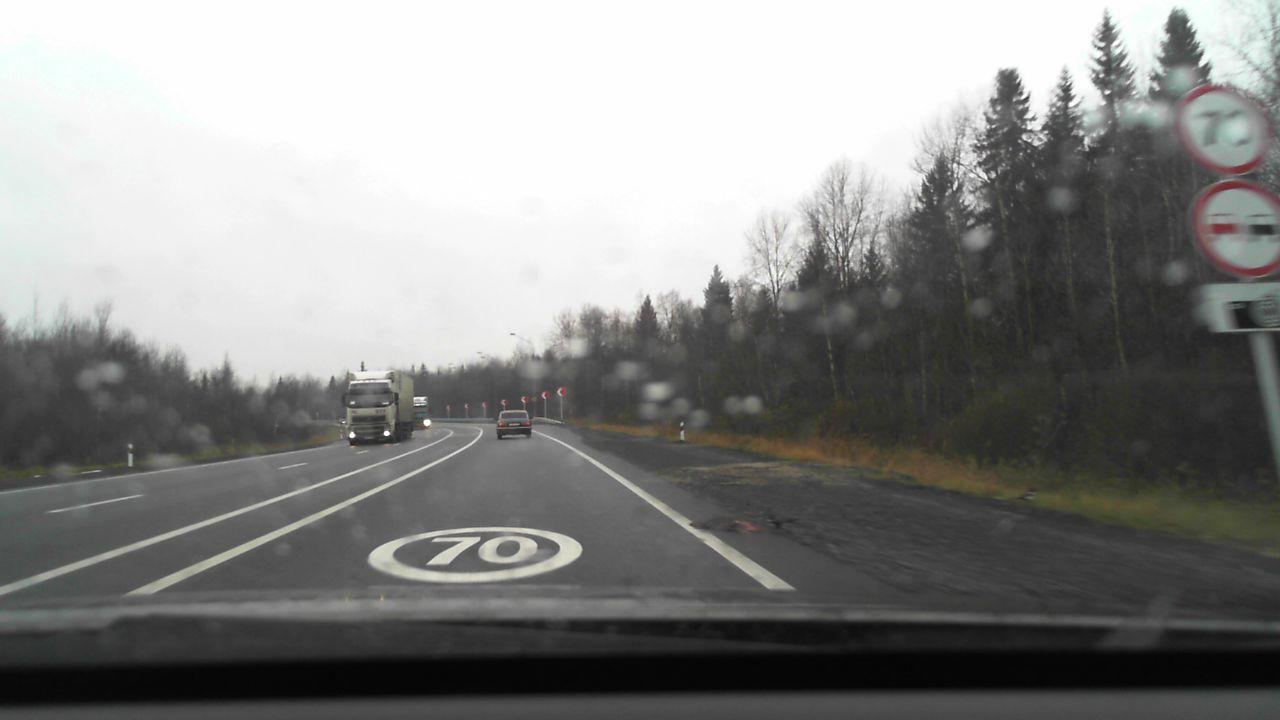1_34_2: (556, 386, 569, 398), (541, 391, 551, 400), (520, 395, 528, 402), (500, 399, 507, 405), (482, 402, 488, 408), (465, 404, 470, 407), (447, 405, 449, 409)
3_20: (1190, 177, 1280, 278)
3_24: (1167, 84, 1280, 172)
8_23: (1203, 283, 1279, 331)
